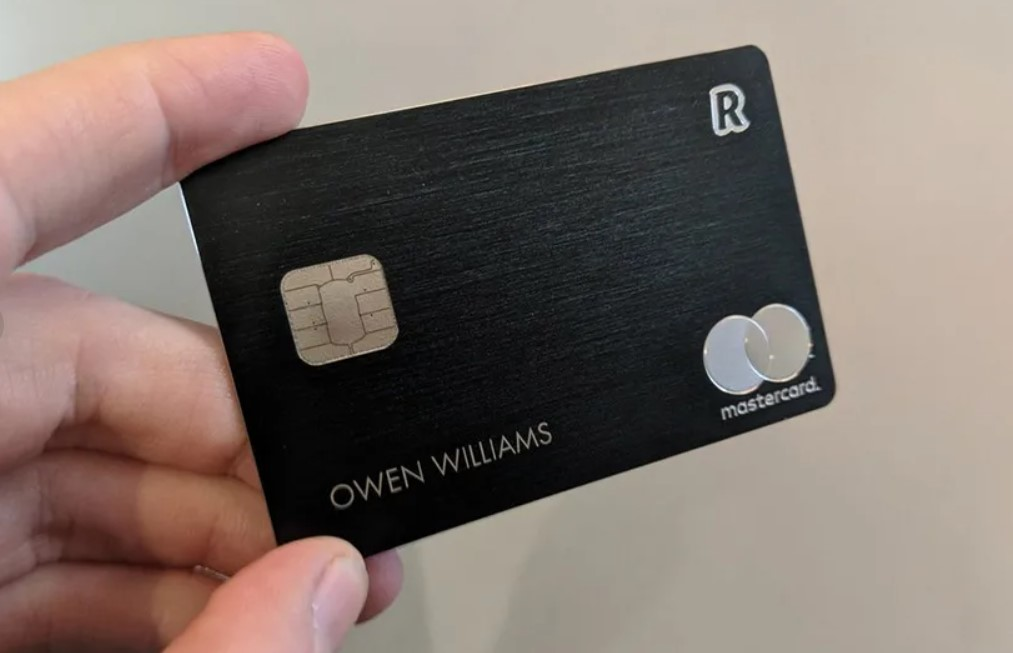card: (182, 42, 844, 562)
